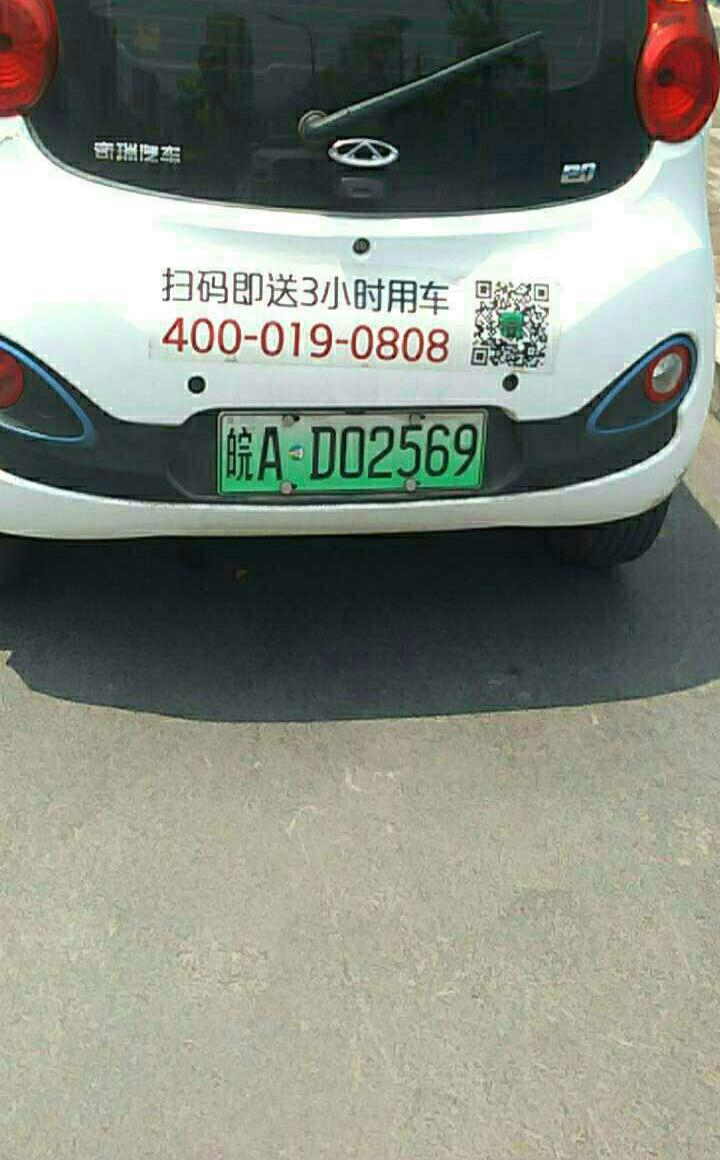car_green: (218, 407, 488, 491)
